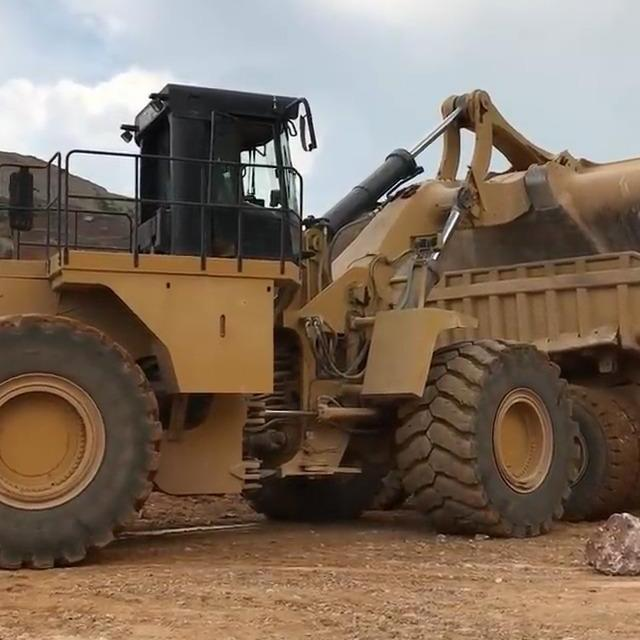dump truck: (398, 240, 640, 524)
wheel loader: (0, 72, 640, 575)
